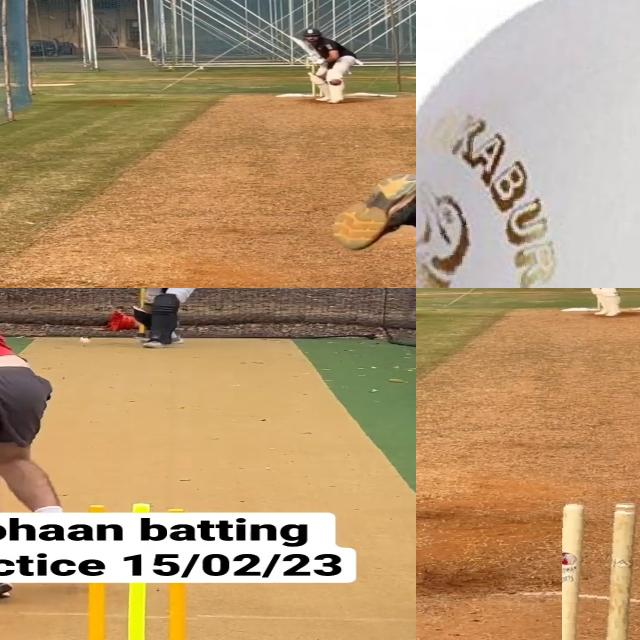Cricket ball: (416, 0, 640, 288), (78, 336, 91, 345), (329, 78, 343, 86)
Stumps: (562, 501, 640, 640), (73, 584, 197, 640)
